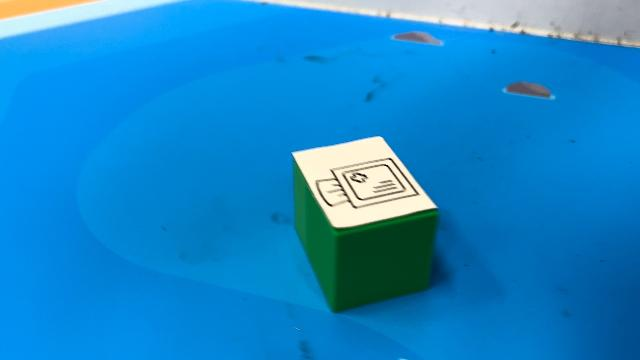napkin: (289, 134, 441, 312)
